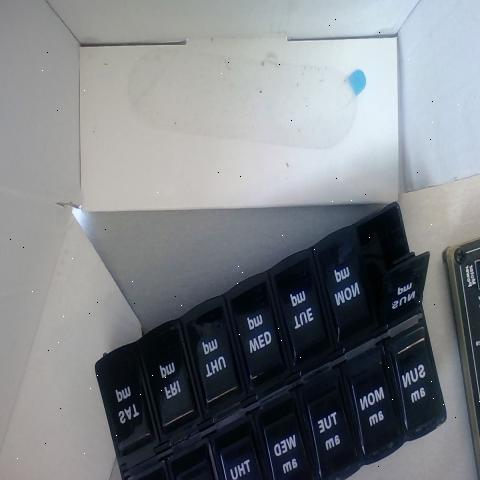FRI-pm: (156, 342, 186, 424)
MON-am: (352, 364, 397, 448)
MON-pm: (327, 238, 375, 338)
Open: (357, 205, 431, 329)
SAT-pm: (110, 362, 147, 442)
SUN-am: (401, 338, 433, 437)
THU-pm: (197, 322, 232, 406)
TUE-am: (313, 387, 345, 465)
TUE-pm: (287, 267, 321, 366)
WED-am: (270, 413, 308, 480)
WED-pm: (244, 296, 276, 383)
